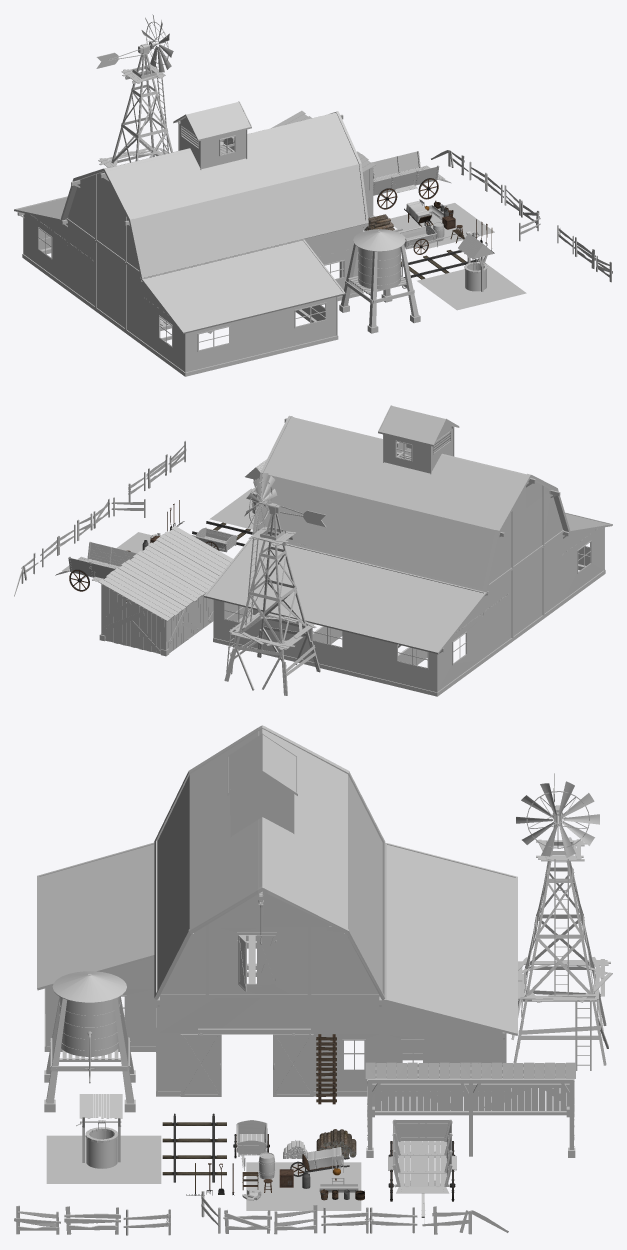
File: FarmingAsset.fbx
3 renders of one model, top to bottom at view 1: azimuth 30°, elevation 25°; view 2: azimuth 150°, elevation 25°; view 3: azimuth 270°, elevation 25°, orthographic. The views are drawn at different scales.
Visible parts, largest first — view 1: model_9, model_29, model_30, model_35, model_28, model_33, model_34, model_19, model_21, model_24, model_23, model_25; view 2: model_9, model_21, model_30, model_33, model_28, model_35, model_24, model_34; view 3: model_9, model_21, model_30, model_29, model_33, model_35, model_28, model_34, model_19, model_23, model_22, model_24 (+1 smaller).
Part boxes in pixels (box(x1,y1,x2,y2)): model_9: box(14, 101, 368, 376); model_29: box(339, 229, 420, 333); model_30: box(96, 14, 173, 167); model_35: box(417, 264, 526, 310); model_28: box(372, 151, 451, 198); model_33: box(431, 150, 612, 282); model_34: box(390, 203, 494, 249); model_19: box(458, 233, 494, 291); model_21: box(271, 110, 375, 218); model_24: box(398, 225, 450, 249); model_23: box(401, 250, 478, 279); model_25: box(377, 178, 438, 254); model_9: box(204, 405, 612, 696); model_21: box(98, 526, 232, 656); model_30: box(224, 473, 325, 695); model_33: box(14, 440, 186, 596); model_28: box(55, 541, 136, 581); model_35: box(209, 488, 254, 529); model_24: box(192, 527, 237, 552); model_34: box(116, 532, 152, 553); model_9: box(37, 725, 517, 1096); model_21: box(365, 1062, 575, 1157); model_30: box(511, 773, 612, 1070); model_29: box(44, 971, 135, 1112); model_33: box(14, 1191, 508, 1235); model_35: box(46, 1135, 161, 1183); model_28: box(388, 1119, 456, 1223); model_34: box(246, 1162, 361, 1210); model_19: box(76, 1094, 122, 1168); model_23: box(162, 1113, 226, 1182); model_22: box(316, 1034, 336, 1104); model_24: box(236, 1120, 267, 1170).
Size of the model in its own units: 1220 by 528 by 1043.
